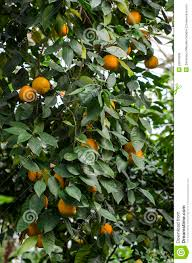orange: (79, 135, 103, 157), (19, 83, 38, 105), (31, 77, 52, 95)
